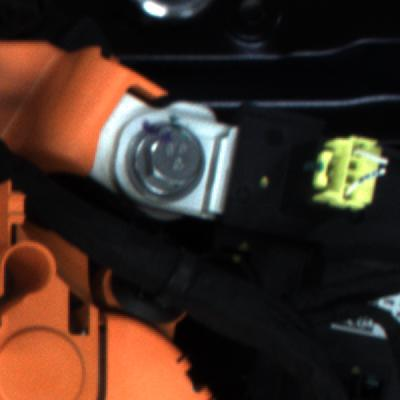nut_b: (121, 119, 217, 210)
